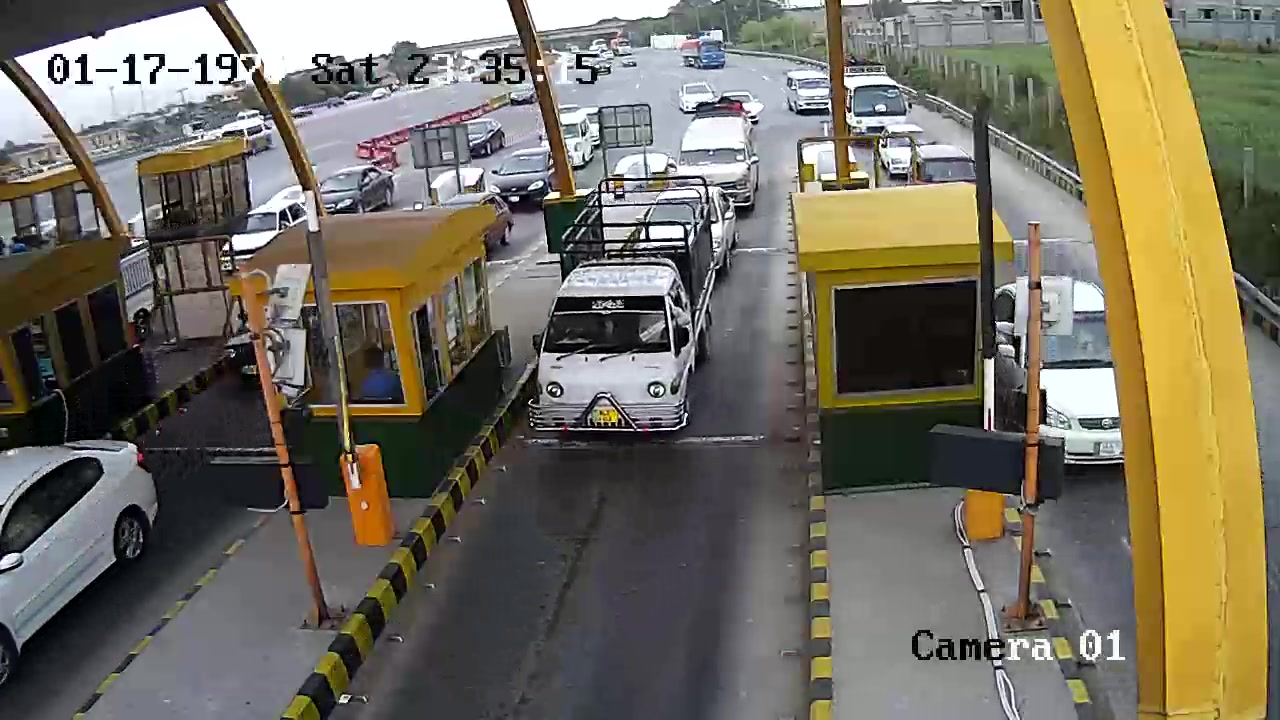F2: (514, 173, 738, 444)
